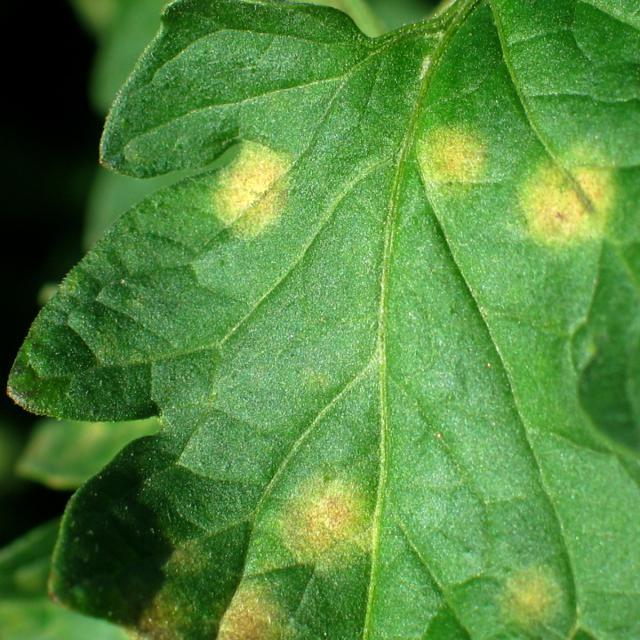Leaf Mold: (192, 104, 633, 640)
